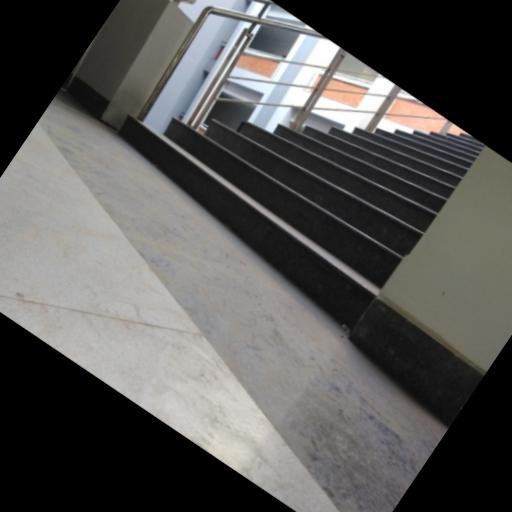stairs: (119, 118, 481, 328)
